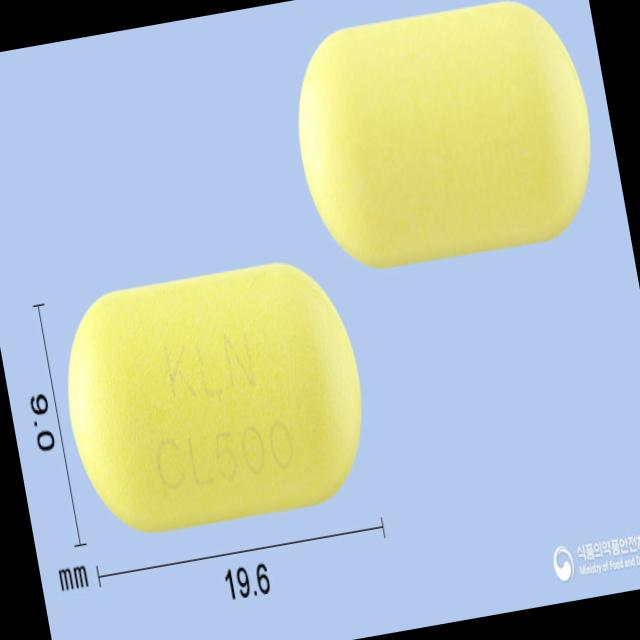New Clato Tab-500mg: (49, 250, 380, 544)
